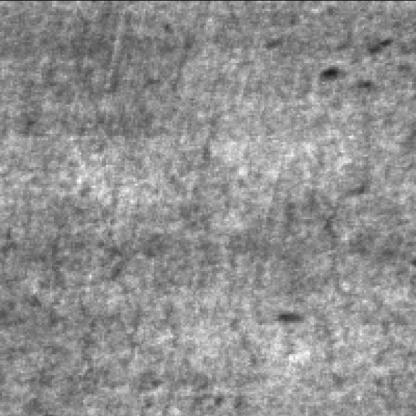crazing: (306, 106, 406, 385)
